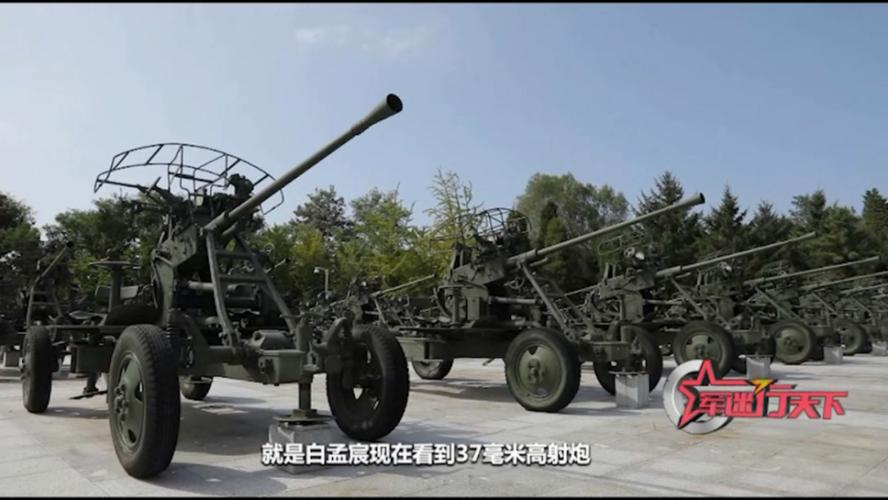MIL_SPG: (23, 94, 408, 478), (364, 198, 700, 411)
